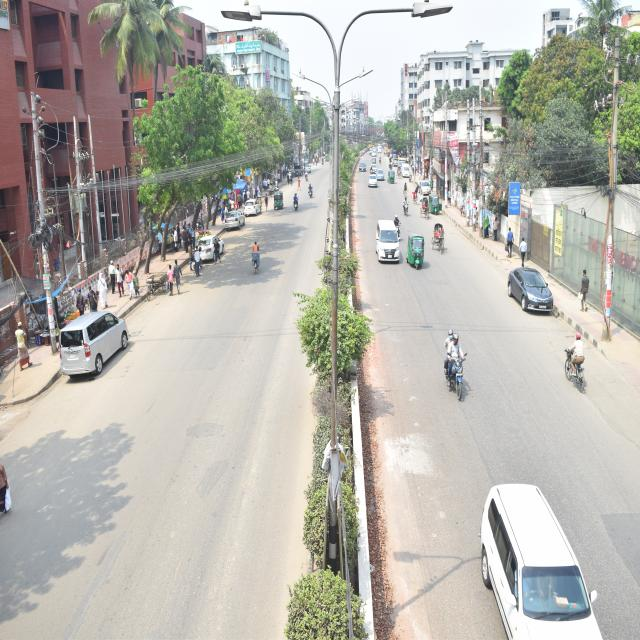car: (484, 477, 607, 640), (60, 306, 132, 379), (504, 262, 554, 324), (374, 218, 400, 271), (193, 232, 226, 262), (223, 210, 246, 232), (245, 200, 262, 218), (416, 177, 432, 196), (366, 171, 378, 191)
motorbike: (442, 347, 468, 405), (306, 181, 317, 203), (291, 194, 300, 213)
